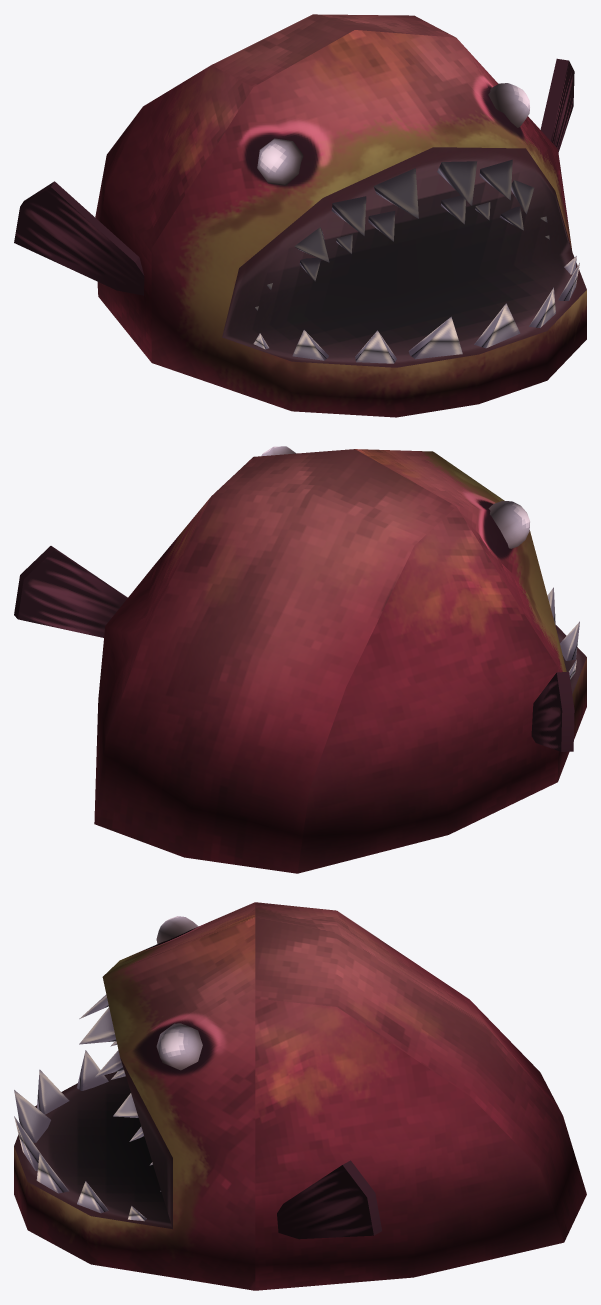
The model's file is anglefish.fbx.
3 views of the same model, one above another, from view 1: azimuth 30°, elevation 25°; view 2: azimuth 150°, elevation 25°; view 3: azimuth 270°, elevation 25° (orthographic). The views are drawn at different scales.
Parts seen in each view (by area): view 1: GJ_Anglerfish_Model (1); view 2: GJ_Anglerfish_Model (1); view 3: GJ_Anglerfish_Model (1).
Part boxes in pixels (bbox=[...]): GJ_Anglerfish_Model (1): bbox=[14, 14, 586, 417]; GJ_Anglerfish_Model (1): bbox=[14, 446, 586, 873]; GJ_Anglerfish_Model (1): bbox=[14, 902, 586, 1290].
Size of the model in its own units: 499 by 242 by 455.
